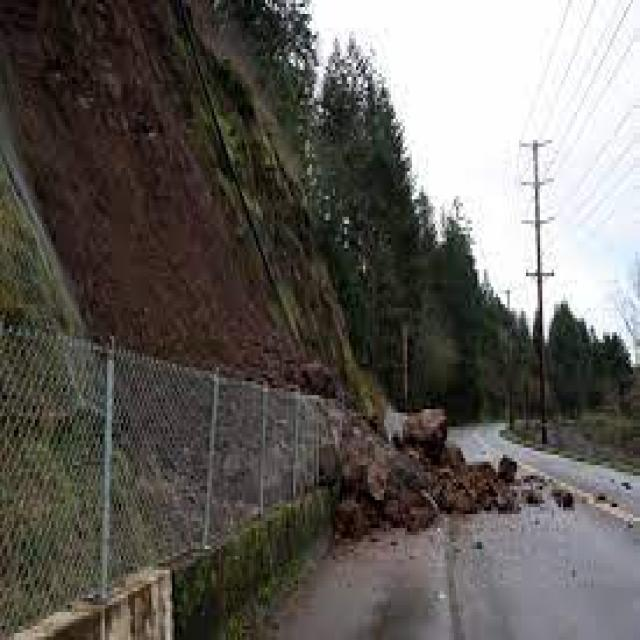landSliding: (236, 294, 562, 601)
